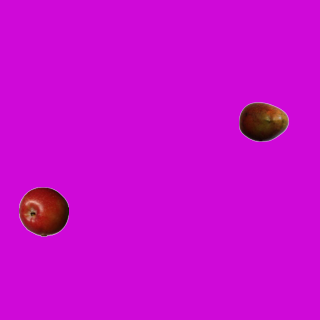Apple Braeburn: (18, 186, 68, 236)
Mango Red: (238, 96, 288, 146)
